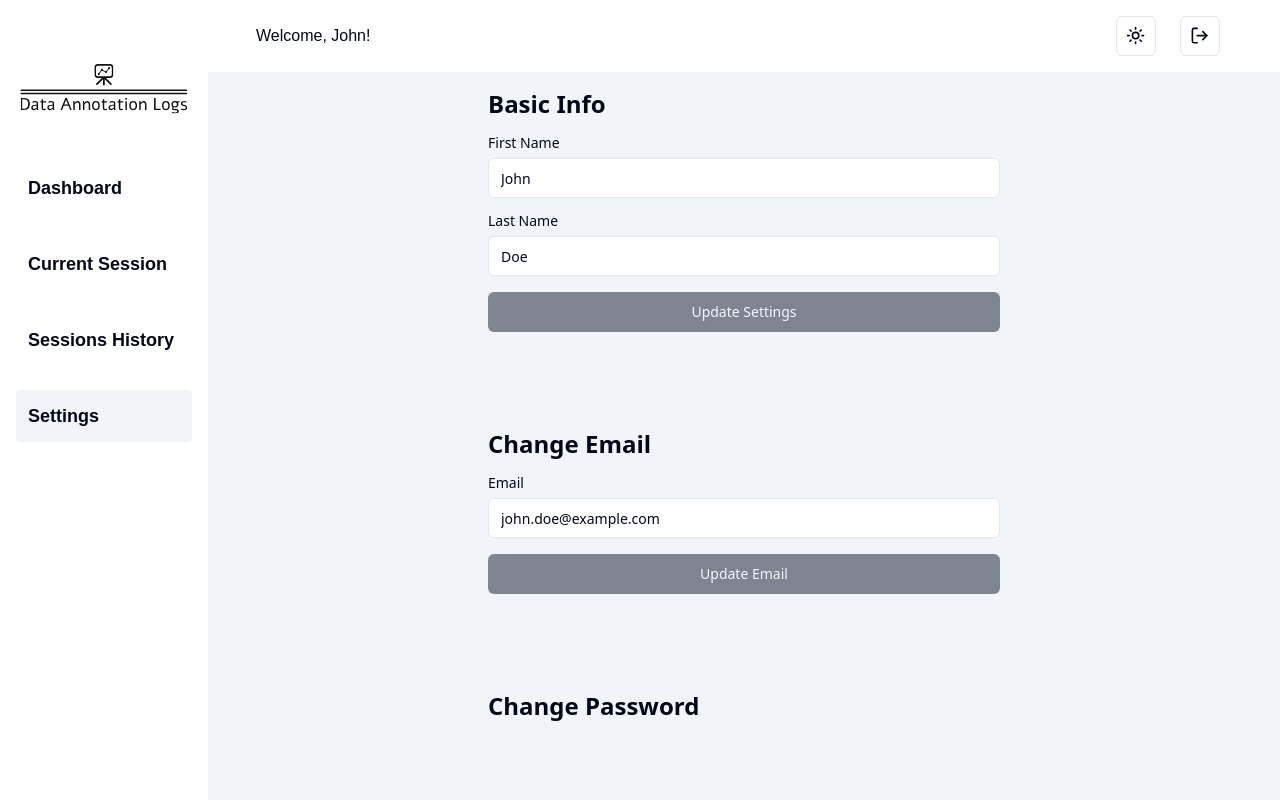
Test: Basic Info Form › should enable and disable update button based on form changes
The image size is (1280, 800).
Replace the text in the field named "firstName" with "Jane" at coordinates (744, 178), box 488,158 -> 1000,198
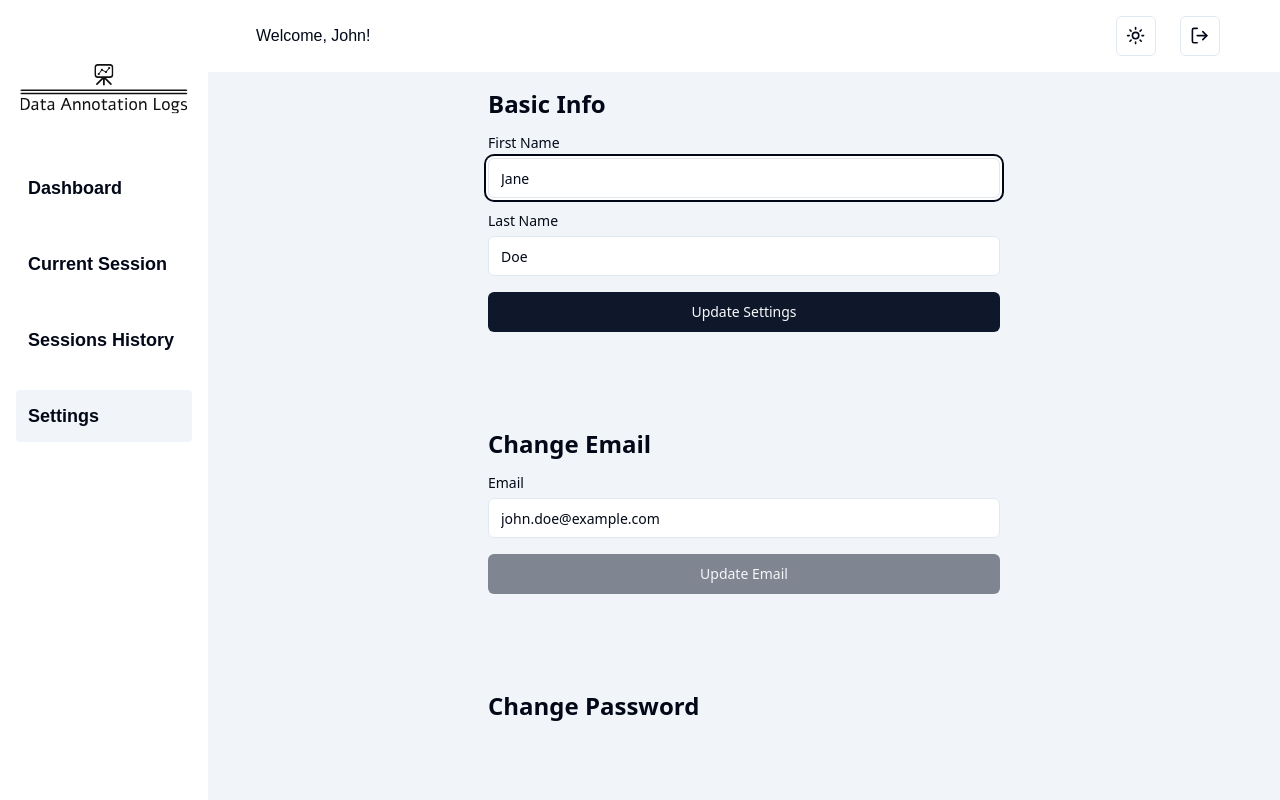
Now the button "Update Settings" is enabled, box 488,292 -> 1000,332
Replace the text in the field named "firstName" with "John" at coordinates (744, 178), box 488,158 -> 1000,198
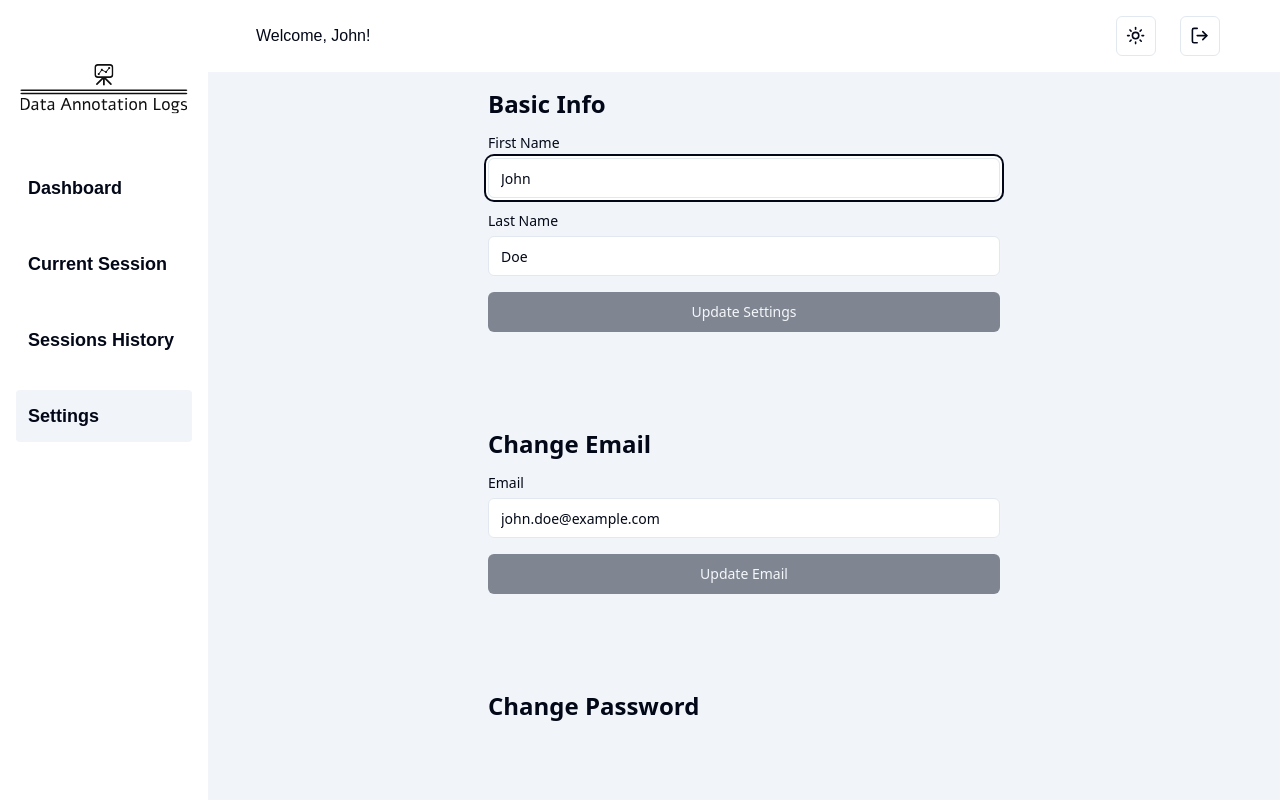
Now the button "Update Settings" is disabled, box 488,292 -> 1000,332
Replace the text in the field named "lastName" with "Smith" at coordinates (744, 256), box 488,236 -> 1000,276
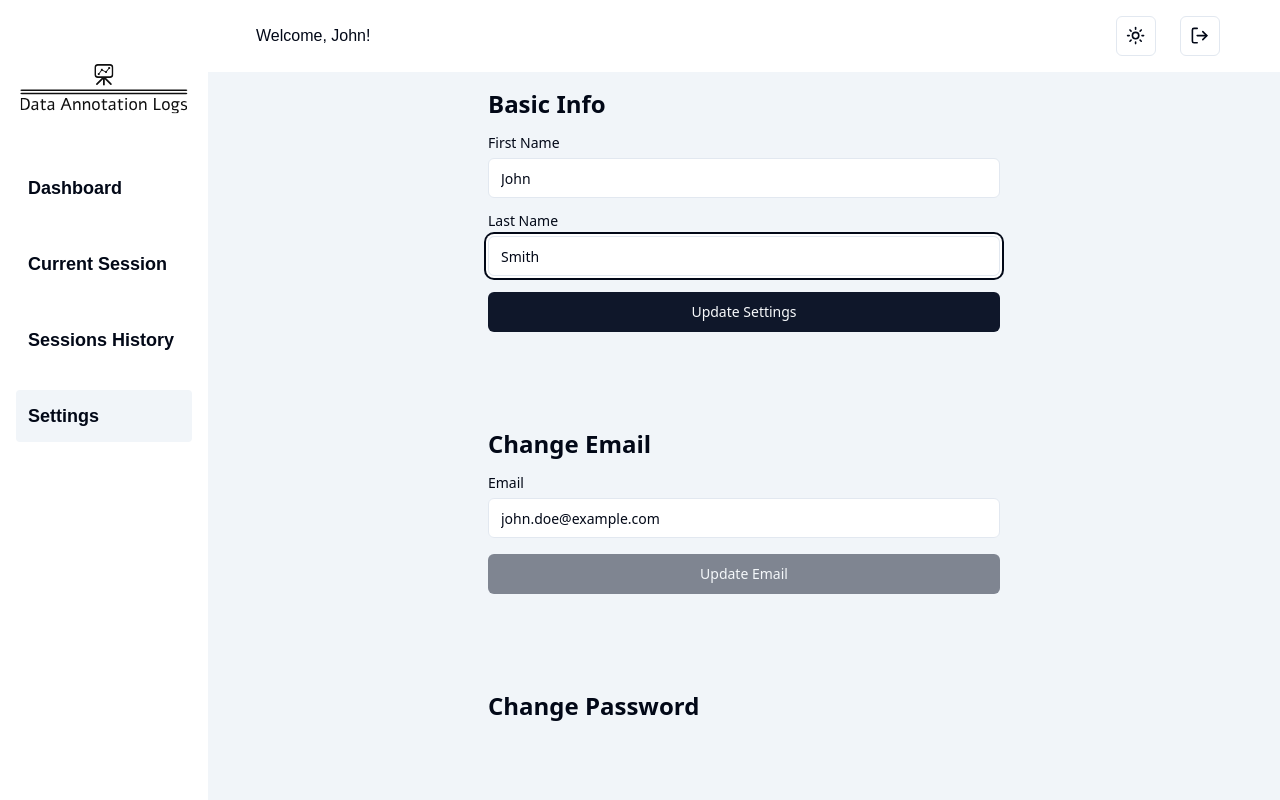
Now the button "Update Settings" is enabled, box 488,292 -> 1000,332
Replace the text in the field named "lastName" with "Doe" at coordinates (744, 256), box 488,236 -> 1000,276
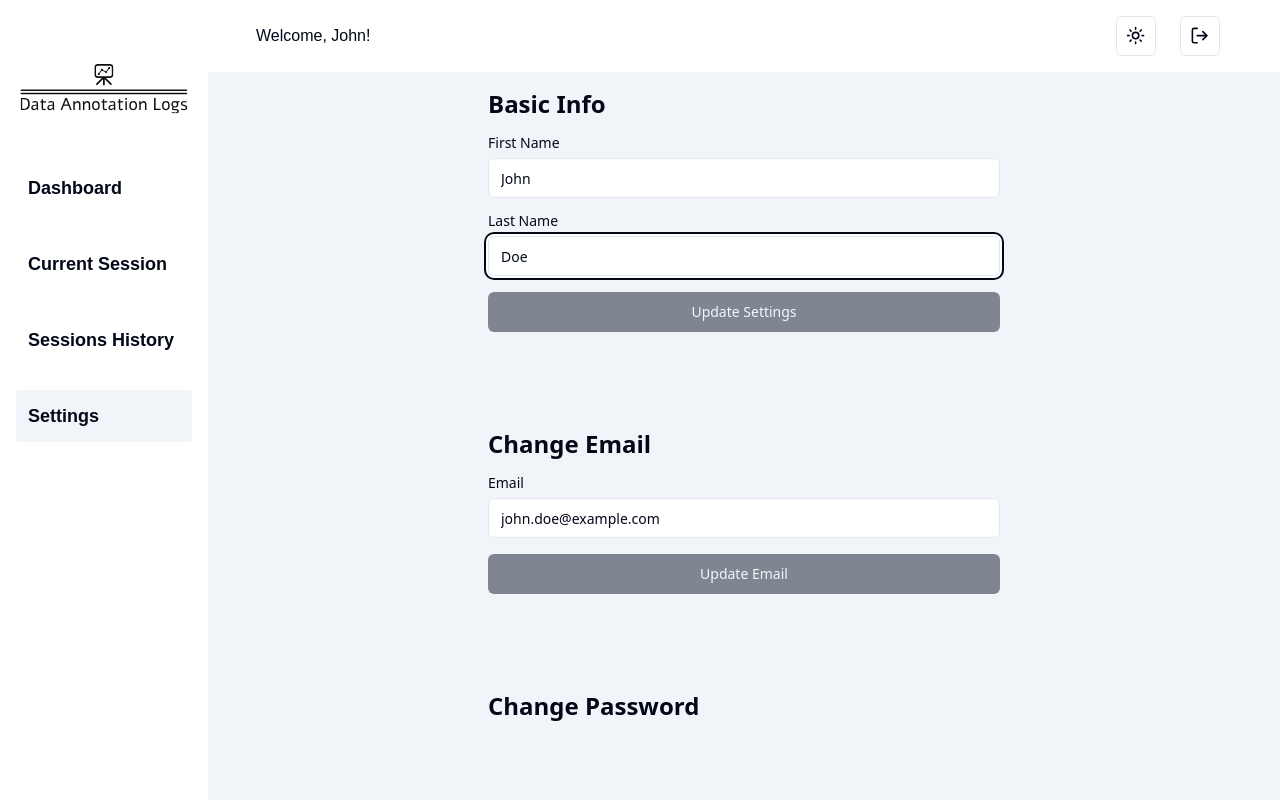
Now the button "Update Settings" is disabled, box 488,292 -> 1000,332
